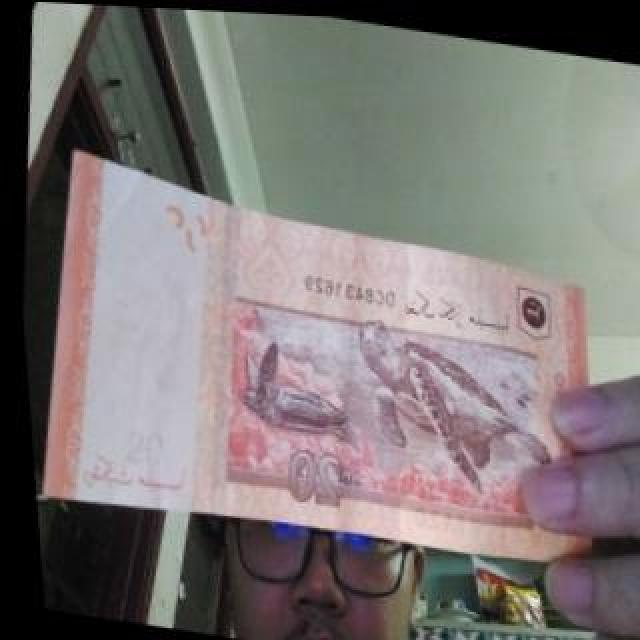20 Ringgit: (8, 126, 627, 584)
